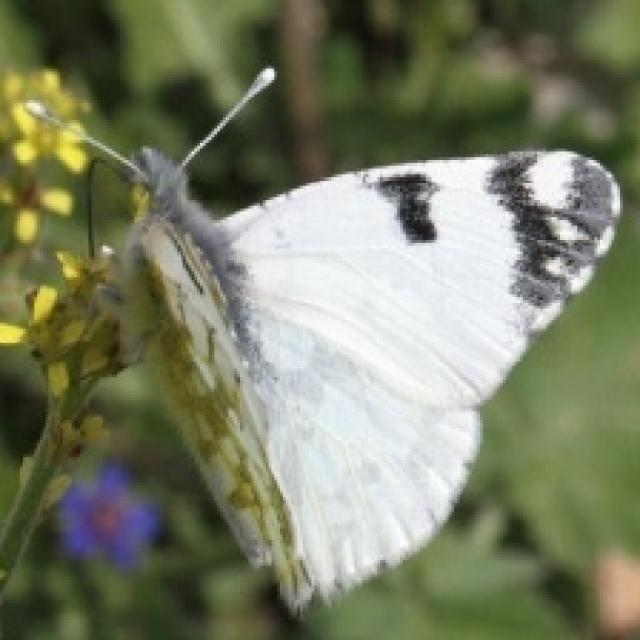butterfly: (20, 63, 623, 617)
